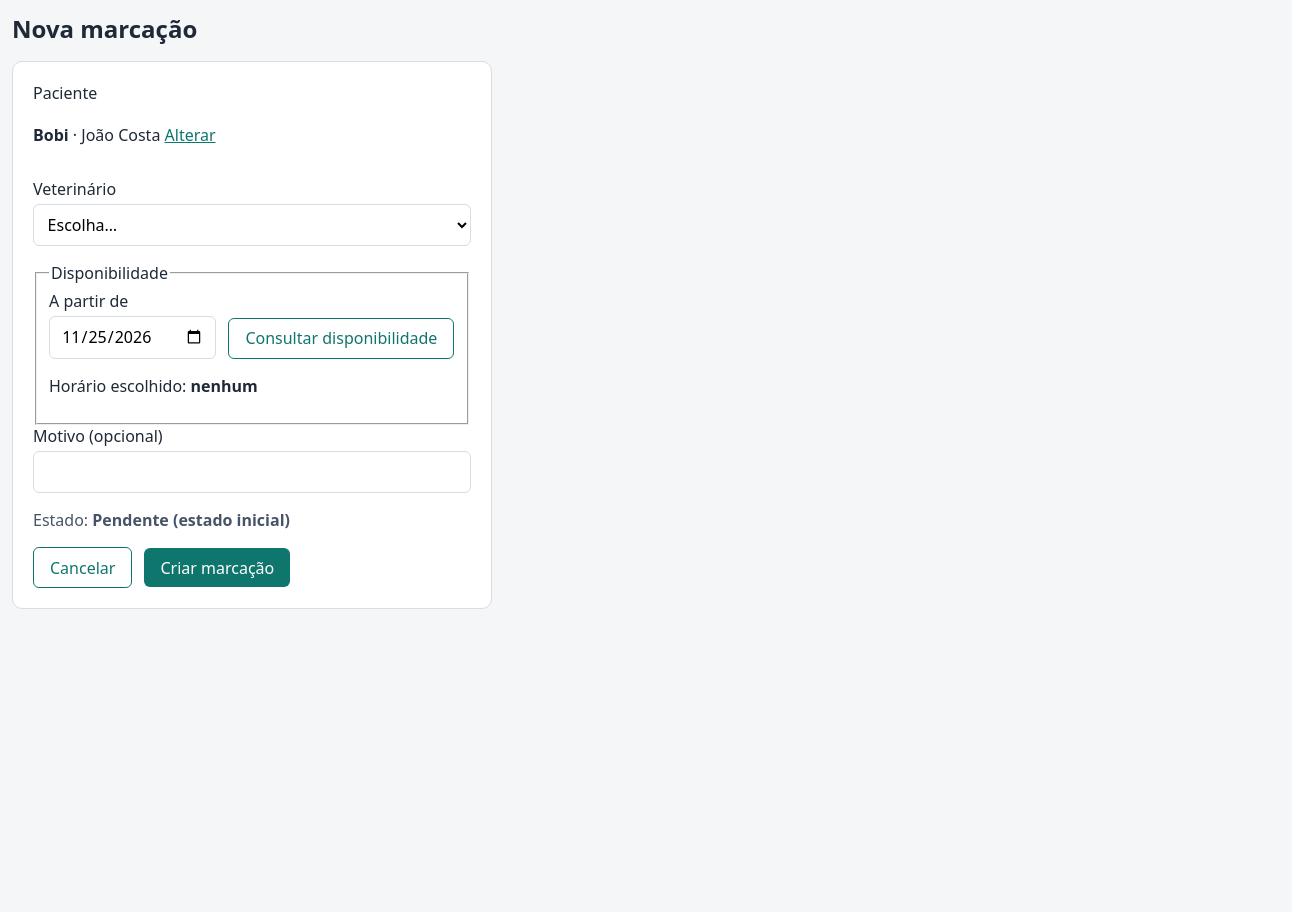
Test: W10 — nova marcação › cria a marcação no horário escolhido e abre o detalhe no estado Pendente
Check: the text "Bobi" is shown, box [33,124,69,146]
Select "Dra. Ana" in the dropdown labelled "Veterinário" at (252, 225), box [33,204,471,246]
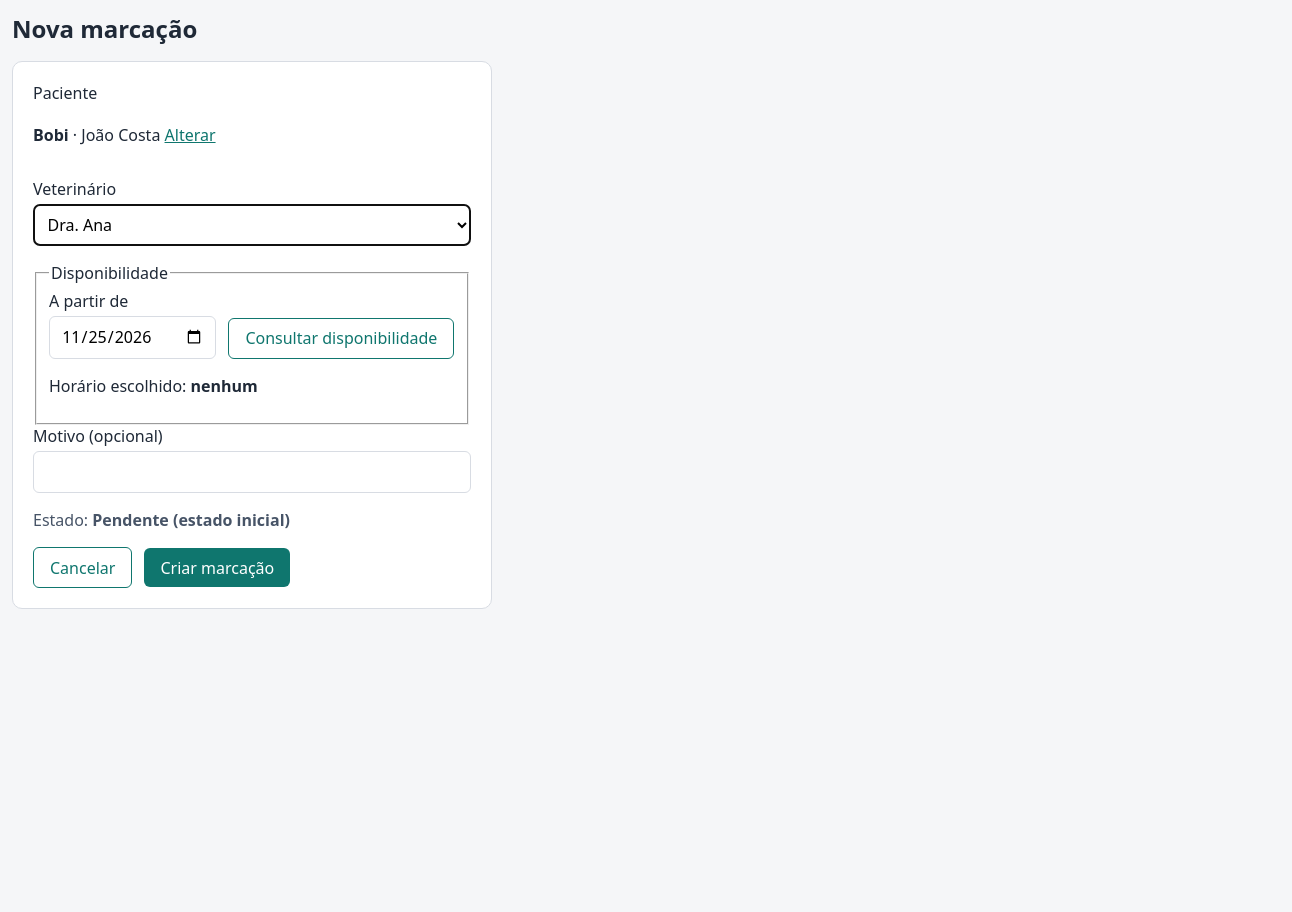
Click the button "Consultar disponibilidade" at (341, 338), box [228,318,454,359]
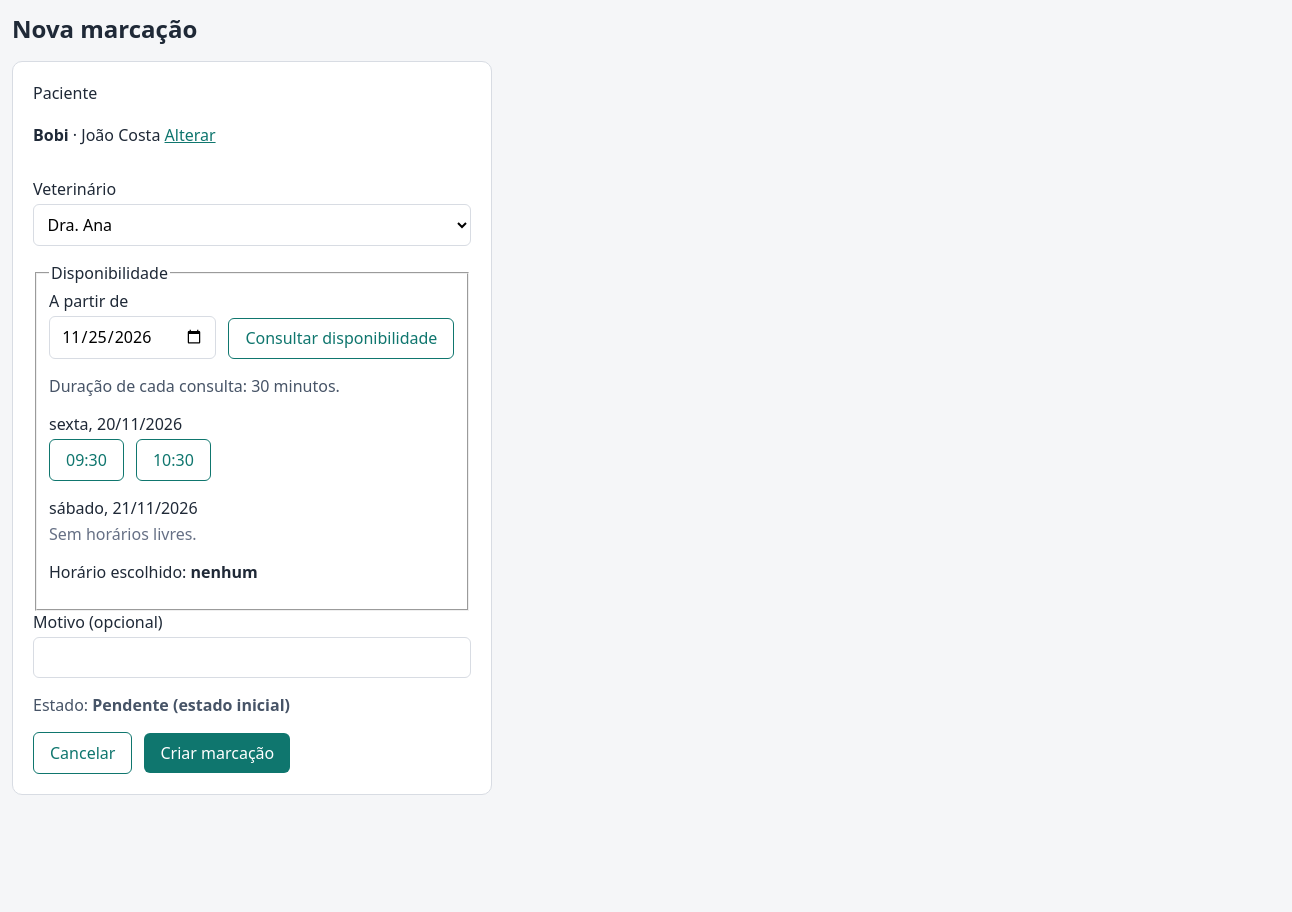
Click the button "10:30" at (173, 460), box [136,439,211,481]
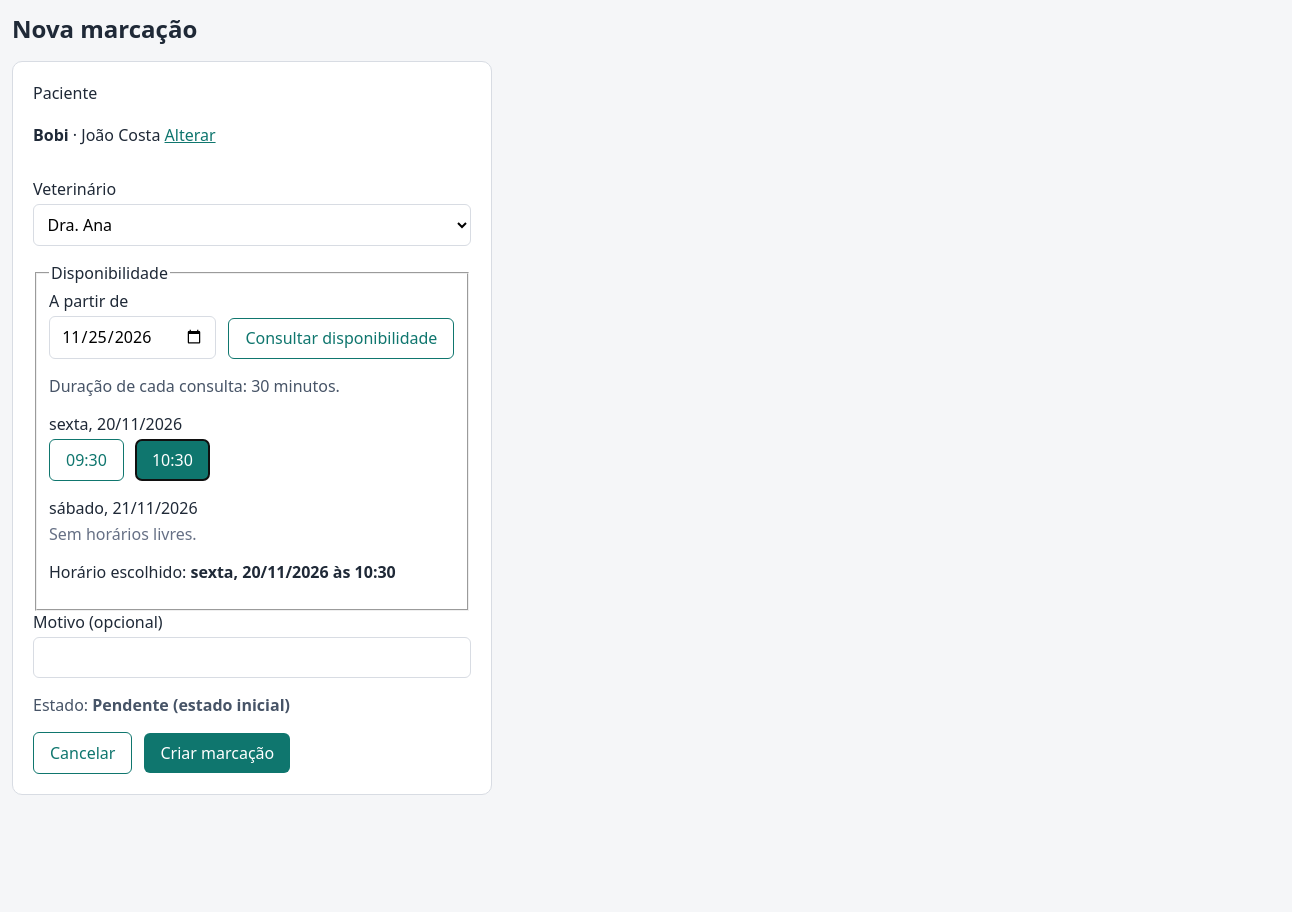
Check: the text "sexta, 20/11/2026 às 10:30" is shown, box [191,561,396,583]
Type "Vacina" into the field labelled "Motivo (opcional)" at (252, 658), box [33,637,471,678]
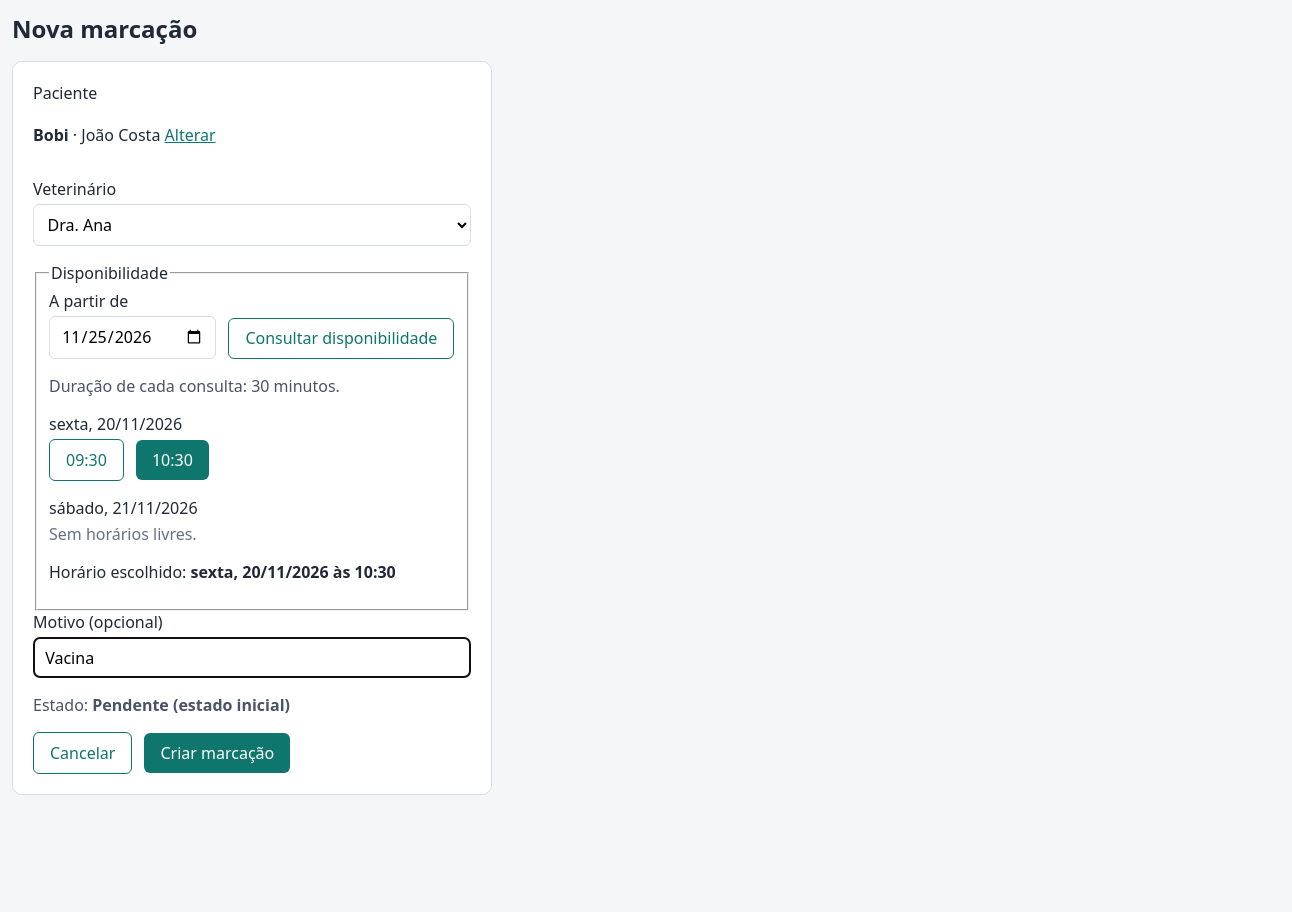
Click the button "Criar marcação" at (217, 753), box [144,733,290,773]
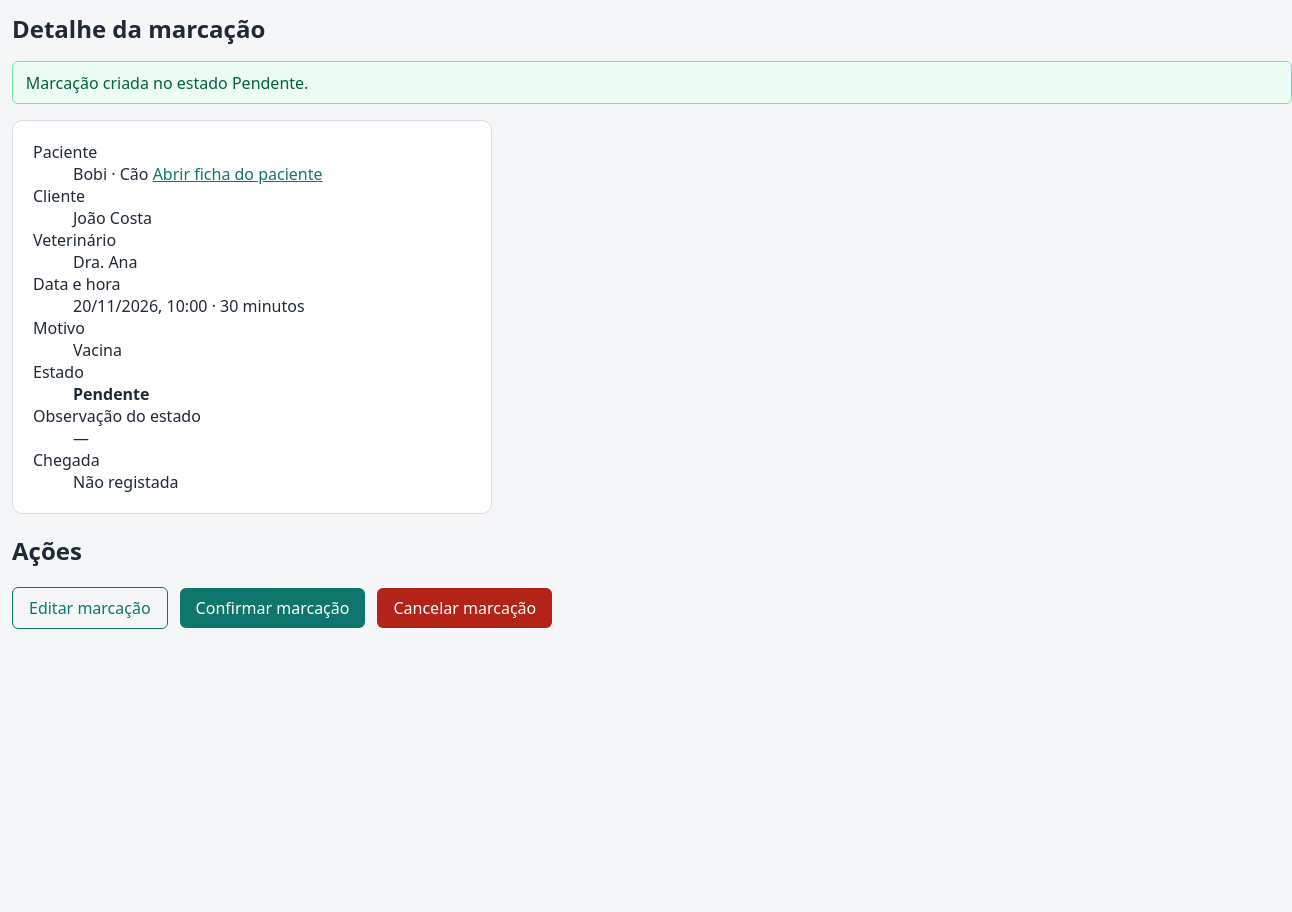
Check: the text "Marcação criada no estado Pendente." is shown, box [12,61,1291,104]
Check: the heading "Detalhe da marcação" is shown, box [12,12,265,45]
